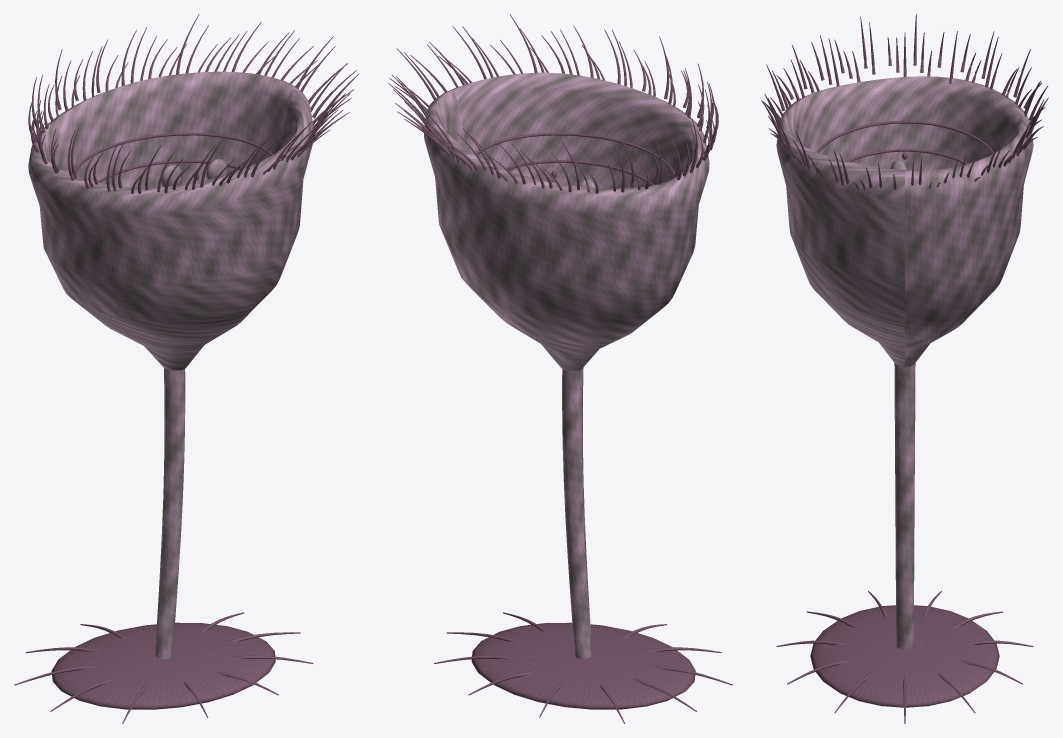
Rendered from guide_bell.glb.
The picture shows the model from 3 angles, left to right: view 1: azimuth 30°, elevation 25°; view 2: azimuth 150°, elevation 25°; view 3: azimuth 270°, elevation 25°; orthographic projection.
Parts seen in each view (by area): view 1: Membrane_cell, Tissue_fibrils, Cilium_2_band, Cilium_1_band, Cilium_0_band, Vacuole_chain; view 2: Membrane_cell, Tissue_fibrils, Cilium_2_band, Cilium_1_band, Cilium_0_band; view 3: Membrane_cell, Tissue_fibrils, Cilium_2_band, Cilium_1_band, Cilium_0_band.
Boxes of the visible parts, x1,y1,x2,y2 form: Membrane_cell: (28, 71, 313, 658); Tissue_fibrils: (14, 132, 313, 723); Cilium_2_band: (28, 14, 359, 190); Cilium_1_band: (32, 25, 354, 193); Cilium_0_band: (36, 31, 351, 193); Vacuole_chain: (161, 158, 228, 186); Membrane_cell: (424, 72, 709, 658); Tissue_fibrils: (434, 132, 732, 723); Cilium_2_band: (388, 14, 718, 190); Cilium_1_band: (392, 26, 714, 193); Cilium_0_band: (396, 29, 710, 192); Membrane_cell: (776, 76, 1033, 649); Tissue_fibrils: (776, 120, 1033, 723); Cilium_2_band: (761, 14, 1048, 189); Cilium_1_band: (764, 22, 1045, 189); Cilium_0_band: (767, 31, 1041, 190).
Size of the model in its own units: 0.3633 by 0.6632 by 0.2886.
2 materials, 2 textured.
